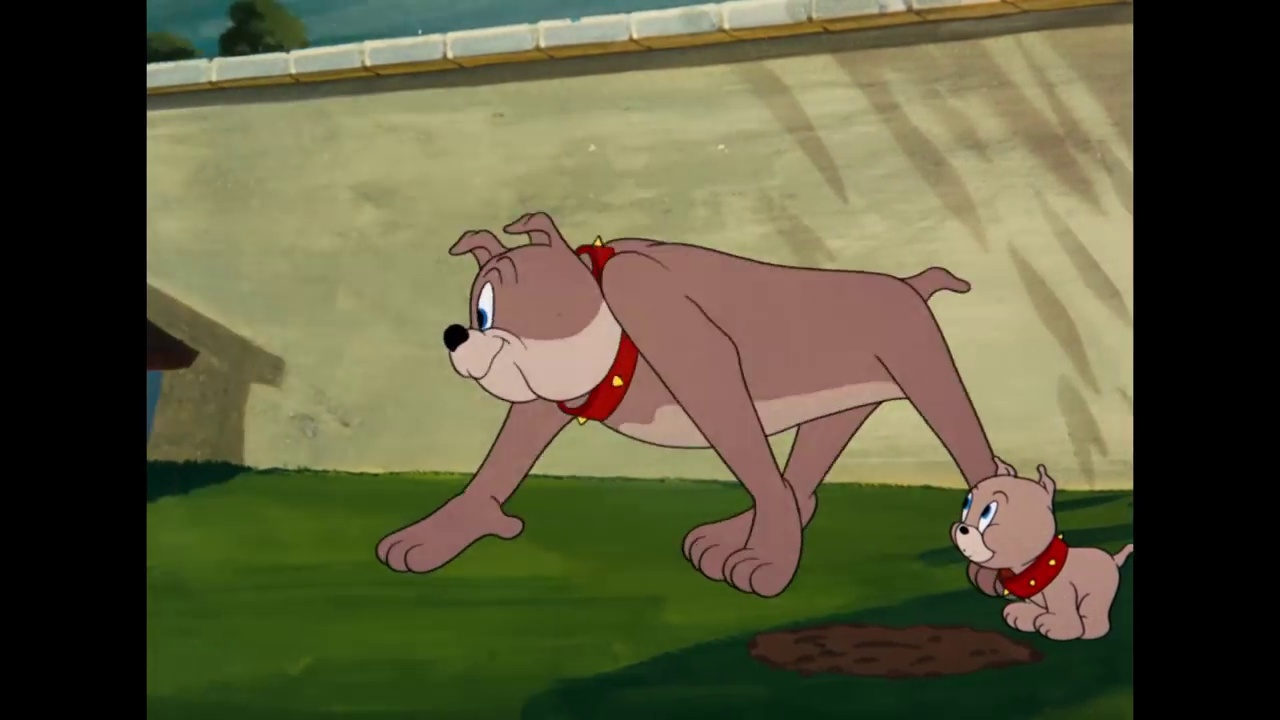spike: (436, 209, 641, 424)
